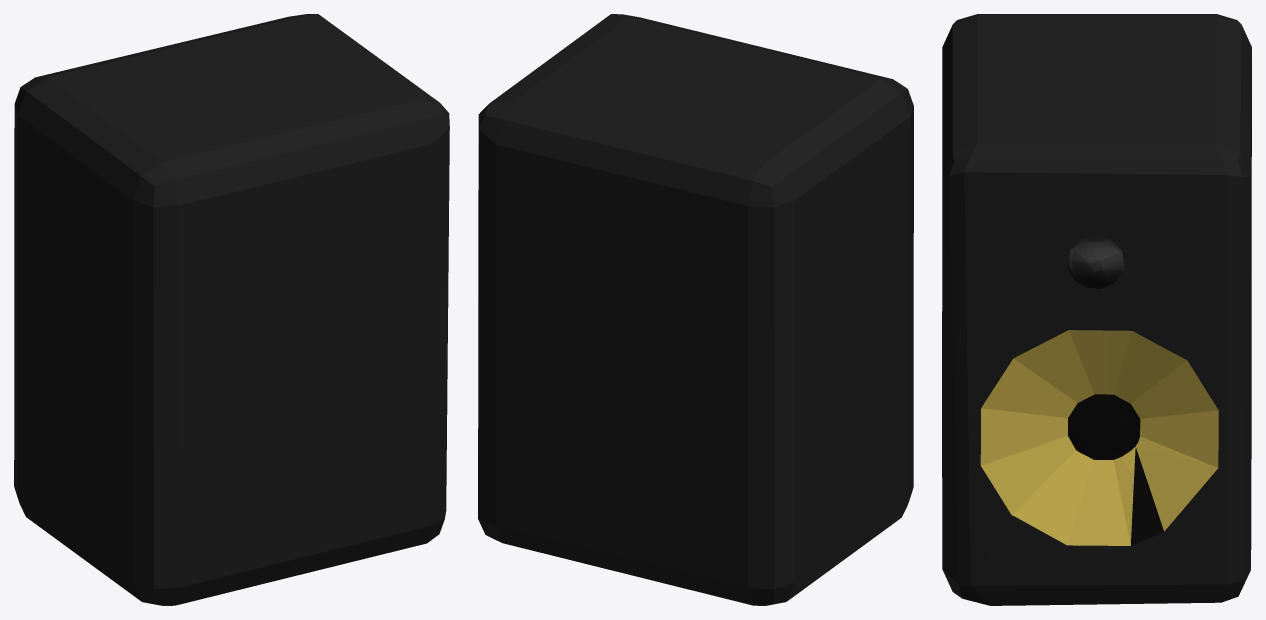
File: STUDIO_MONITOR.fbx
The picture shows the model from 3 angles, left to right: view 1: azimuth 30°, elevation 25°; view 2: azimuth 150°, elevation 25°; view 3: azimuth 270°, elevation 25°; orthographic projection. The views are drawn at different scales.
Visible parts, largest first — view 1: STUDIO_MONITOR; view 2: STUDIO_MONITOR; view 3: STUDIO_MONITOR.
Boxes of the visible parts, x1,y1,x2,y2 form: STUDIO_MONITOR: [14, 14, 449, 605]; STUDIO_MONITOR: [478, 14, 913, 605]; STUDIO_MONITOR: [942, 14, 1251, 605].
Size of the model in its own units: 16.6 by 21.94 by 13.42.
